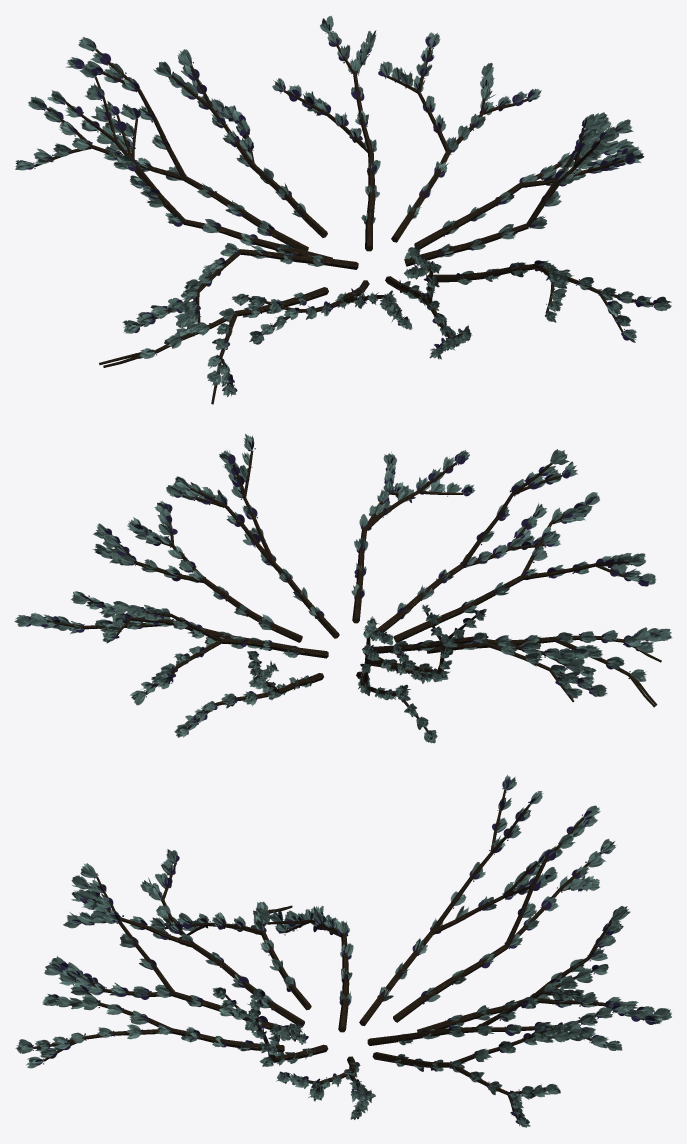
File: bilberry_low_v02.glb
The picture shows the model from 3 angles, top to bottom: view 1: azimuth 30°, elevation 25°; view 2: azimuth 150°, elevation 25°; view 3: azimuth 270°, elevation 25°; orthographic projection. The views are drawn at different scales.
Visible parts, largest first — view 1: bilberry_low_v02; view 2: bilberry_low_v02; view 3: bilberry_low_v02.
Part boxes in pixels (x1,y1,x2,y2): bilberry_low_v02: [15, 15, 671, 404]; bilberry_low_v02: [14, 434, 671, 743]; bilberry_low_v02: [15, 774, 671, 1127].
Bounding box in the file's own units: 1.13 × 0.357 × 1.19.
2 materials, 2 textured.
